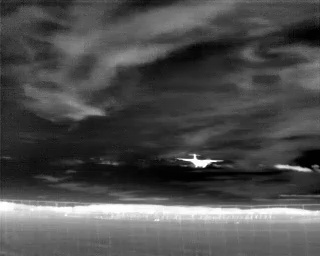AIRPLANE: (173, 148, 226, 170)
